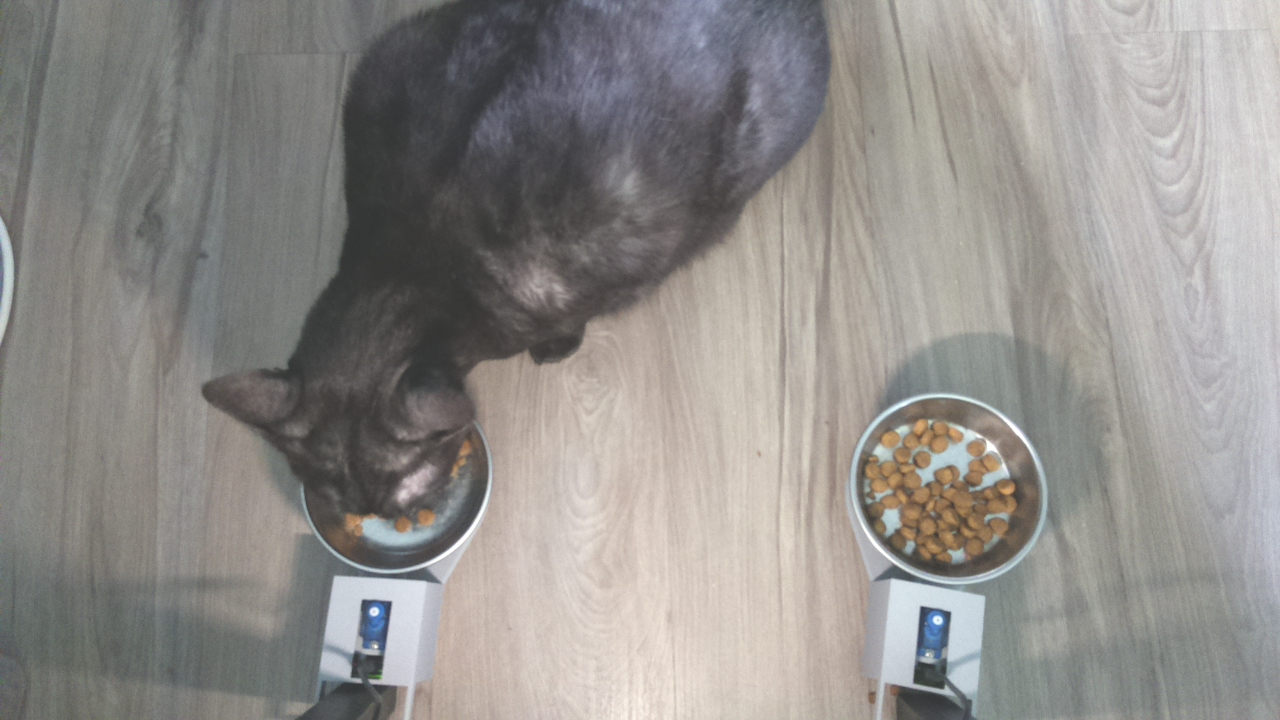open_bowl: (852, 389, 1052, 590)
saki_eating: (191, 266, 501, 558)
